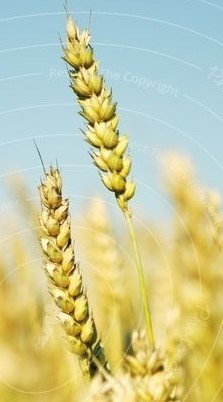Healthy Wheat: (58, 18, 151, 205), (33, 170, 101, 357)
